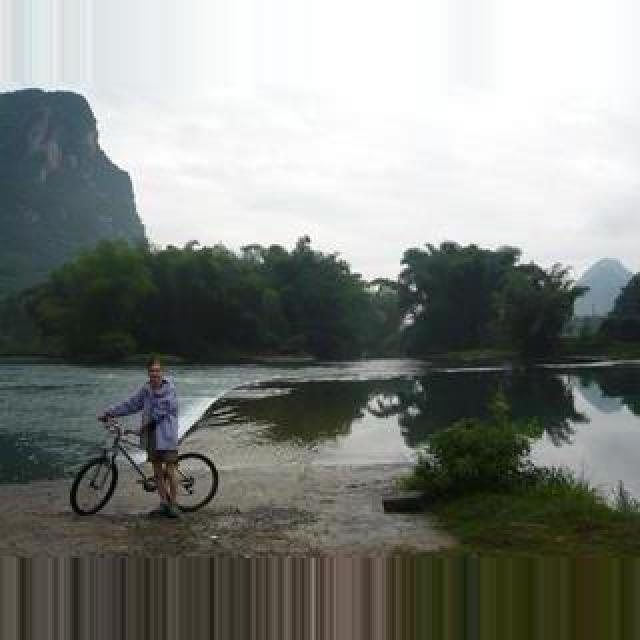MC-Bike: (96, 354, 184, 514)
Person: (69, 418, 219, 518)
